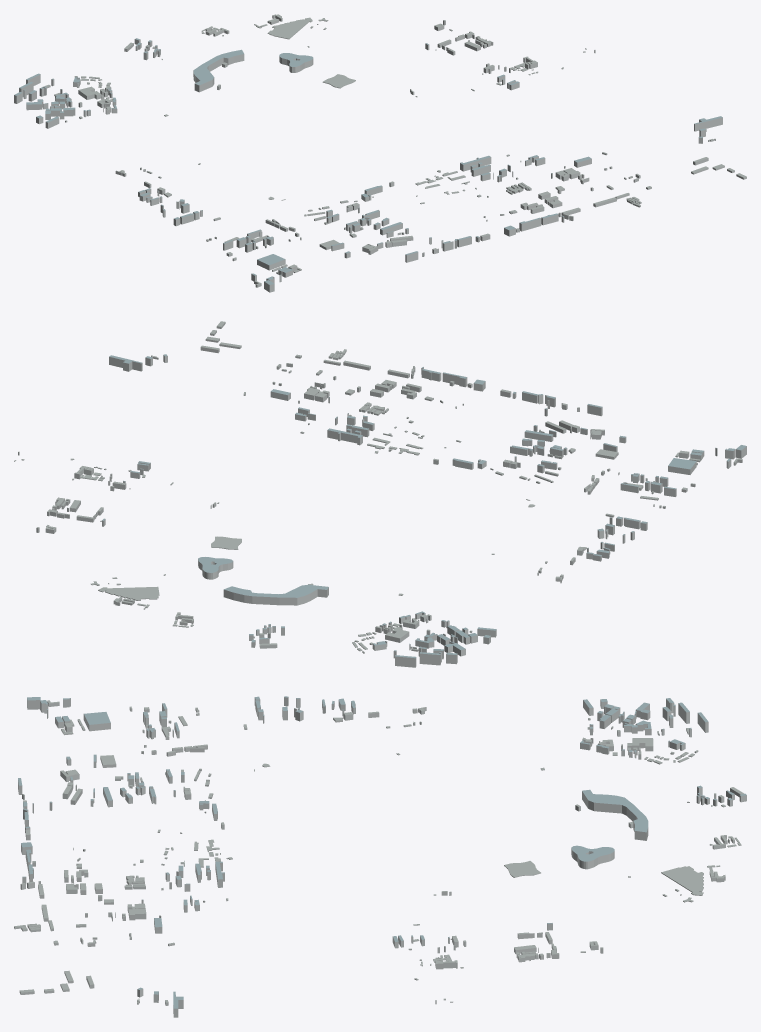
The model's file is far.glb.
3 renders of one model, top to bottom at view 1: azimuth 30°, elevation 25°; view 2: azimuth 150°, elevation 25°; view 3: azimuth 270°, elevation 25°, orthographic. The views are drawn at different scales.
Bounding box in the file's own units: 2154 × 37.1 × 2124.
